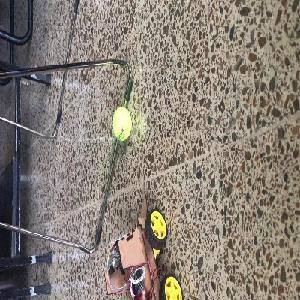Ball: (112, 106, 132, 141)
Robot: (103, 192, 184, 299)
